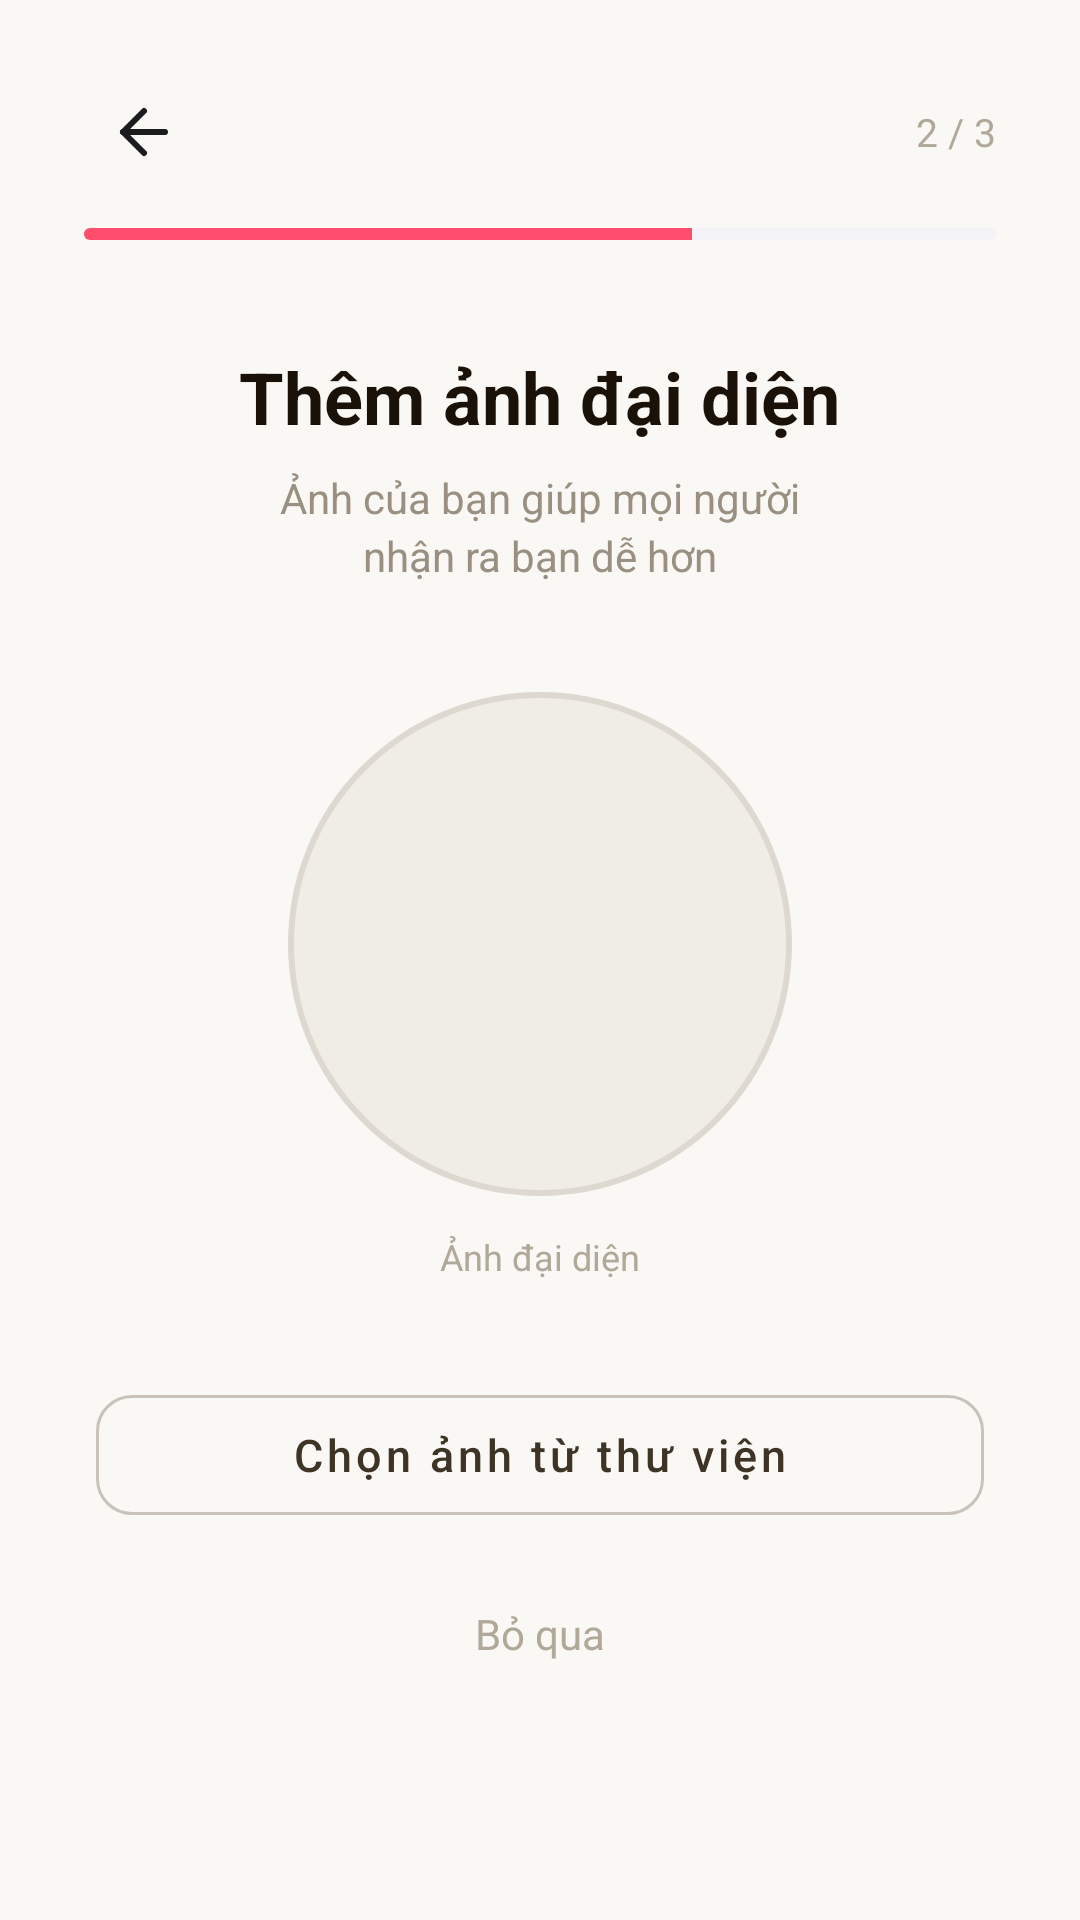

Named icons in this screenshot (1080 x 1920) and their centers, point (x, y):
Quay lại: point (144, 132)
